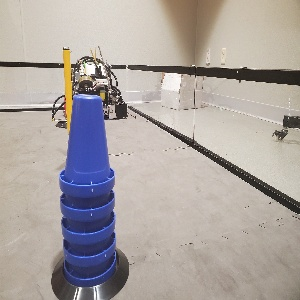Blue_5: (57, 92, 117, 285)
